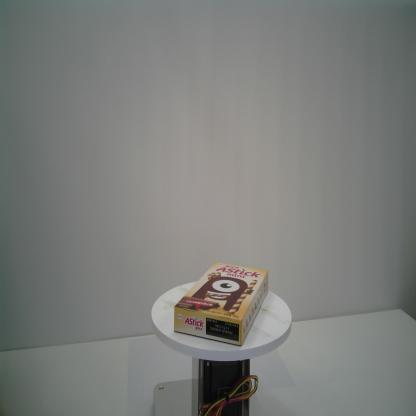Dessert: (174, 260, 270, 347)
